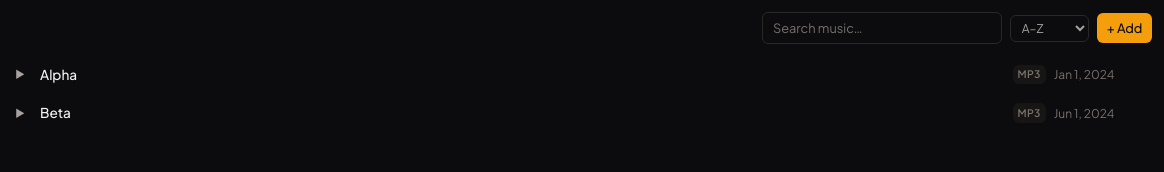
it: soundListManage › search filters items by name
The width and height of the screenshot is (1164, 172).
Check: the number of elements with class "sound-name" is 2, box [40,66,77,83]; [40,104,71,121]
Type "alpha" into the field with class "search-input" at [882, 28], box [762,12,1002,44]
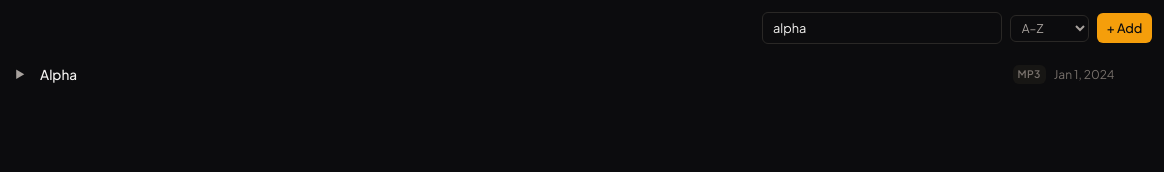
Check: the elements with class "sound-name" read "Alpha", in this order, box [40,66,77,83]
